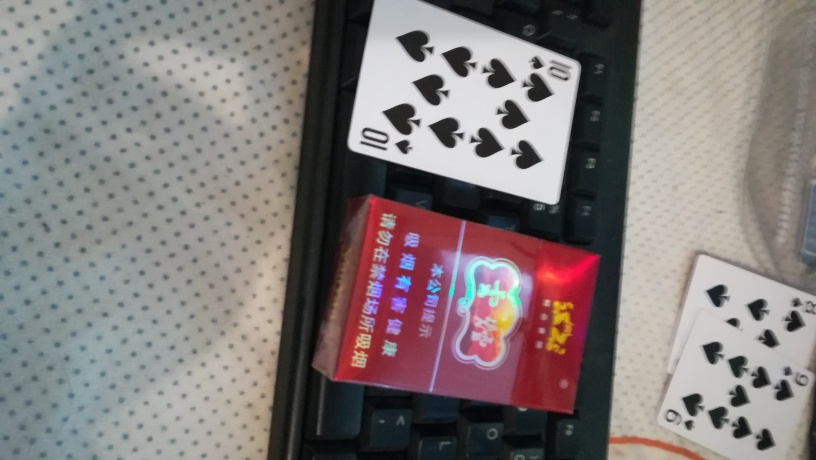ht 10: (343, 2, 582, 211)
